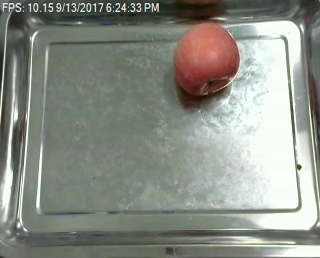Apple: (169, 20, 244, 101)
